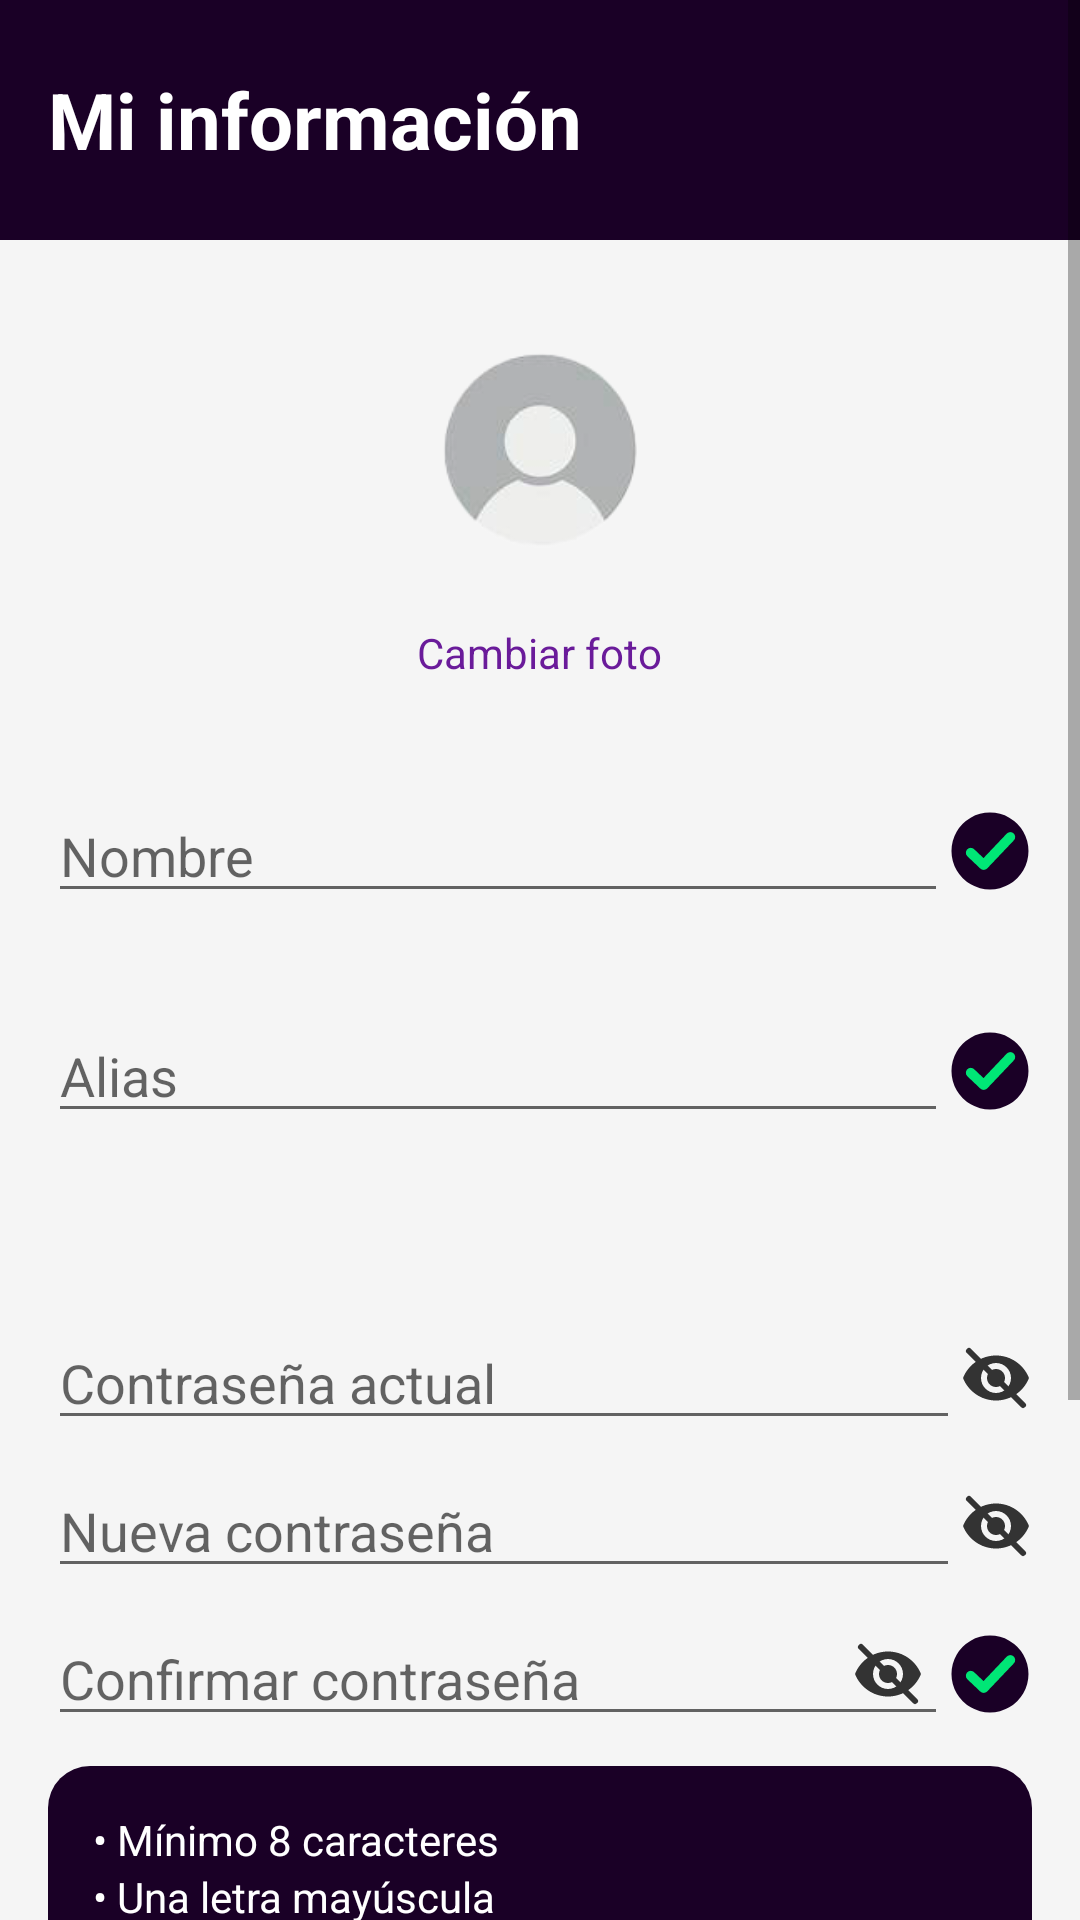

Screen size 1080w x 1920h. Icon name, then its box in pixels as (x1, y1, x2, y2):
check: (951, 812, 1029, 890), (951, 1032, 1029, 1110), (951, 1635, 1029, 1713)
eye closed: (963, 1347, 1029, 1408), (963, 1495, 1029, 1556), (855, 1643, 921, 1704)
